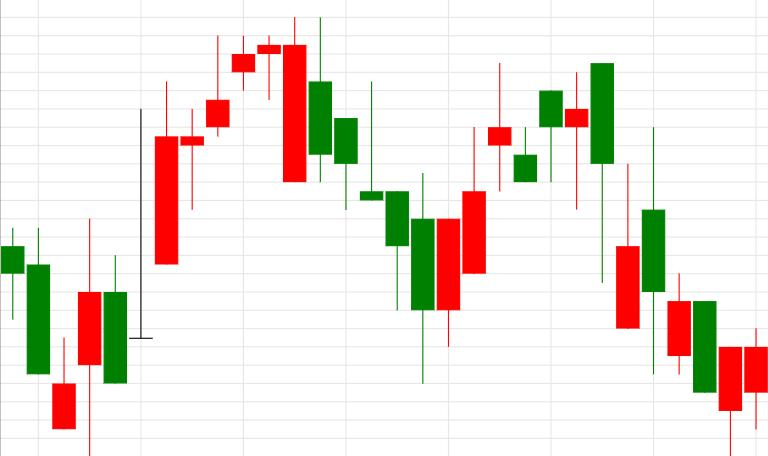bearish_engulfing_fall: (438, 63, 613, 346)
hanging_man_fall: (438, 62, 562, 347)
